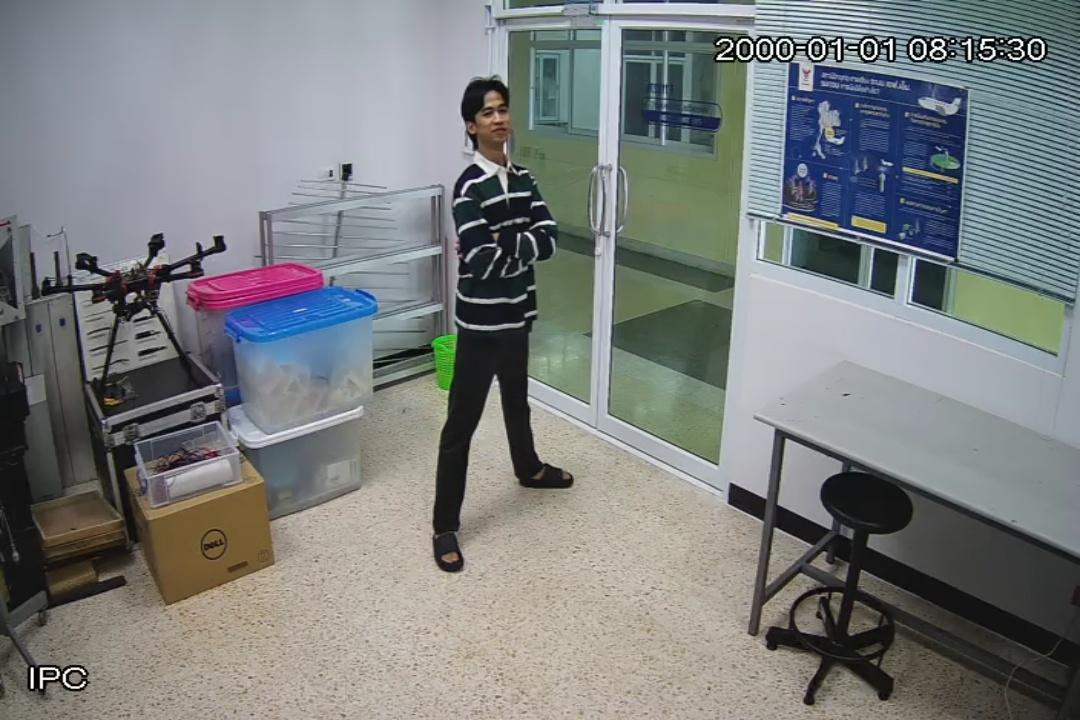normal: (428, 75, 580, 575)
